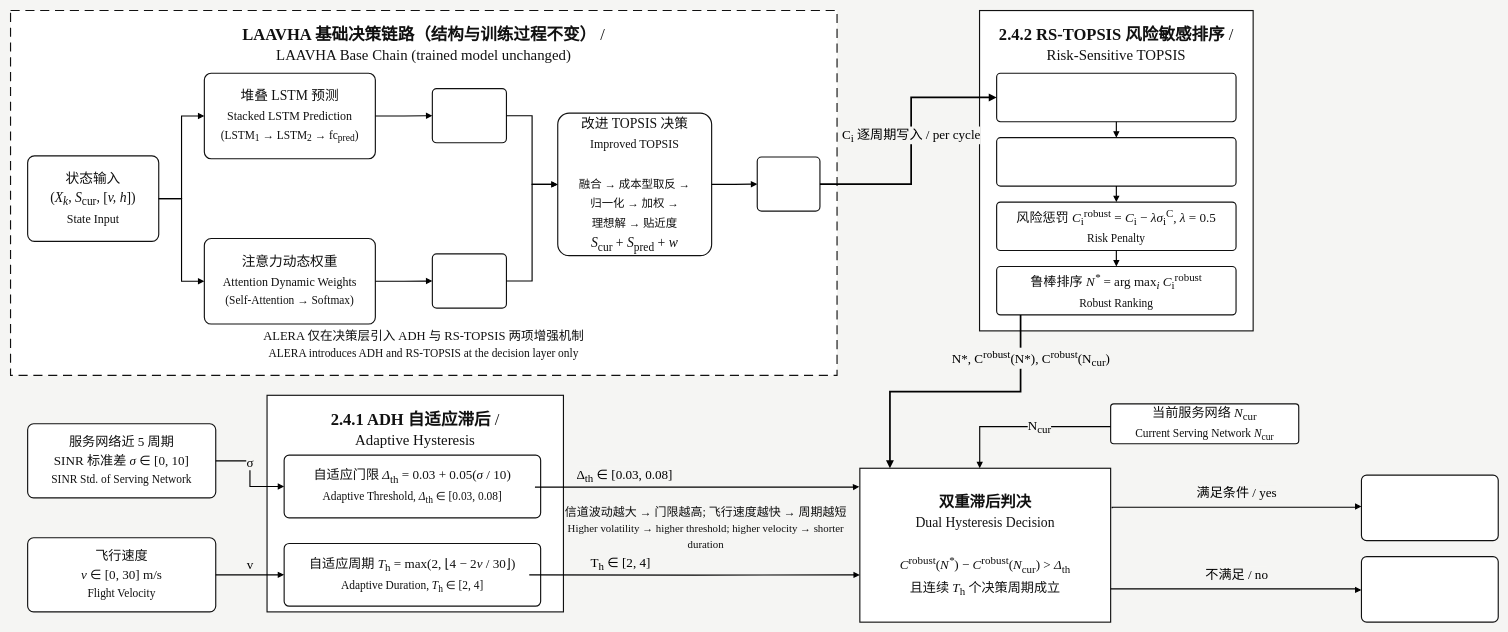
Some shapes in this 1508 by 632 pixel diagram are drawn without their labels. The shapes that lost their labels are listed below. From the top down, each one's centre as x and y in pixels, then its label:
point 469,115: S pred ∈ R 3×5 Predicted State
point 1116,97: 贴近度历史缓存 (近 K c = 5 轮) Closeness History Buffer (last K c = 5 rounds)
point 1116,161: 贴近度波动 σ i C = std ( C i ) Closeness Volatility σ i C
point 788,183: C i ∈ [0, 1] Closeness Coefficient
point 469,280: w ∈ R 5 Dynamic Weights
point 1430,507: 切换至 N * (输出目标网络编号) Switch to N *
point 1430,589: 保持 N cur (不执行切换) Keep N cur
